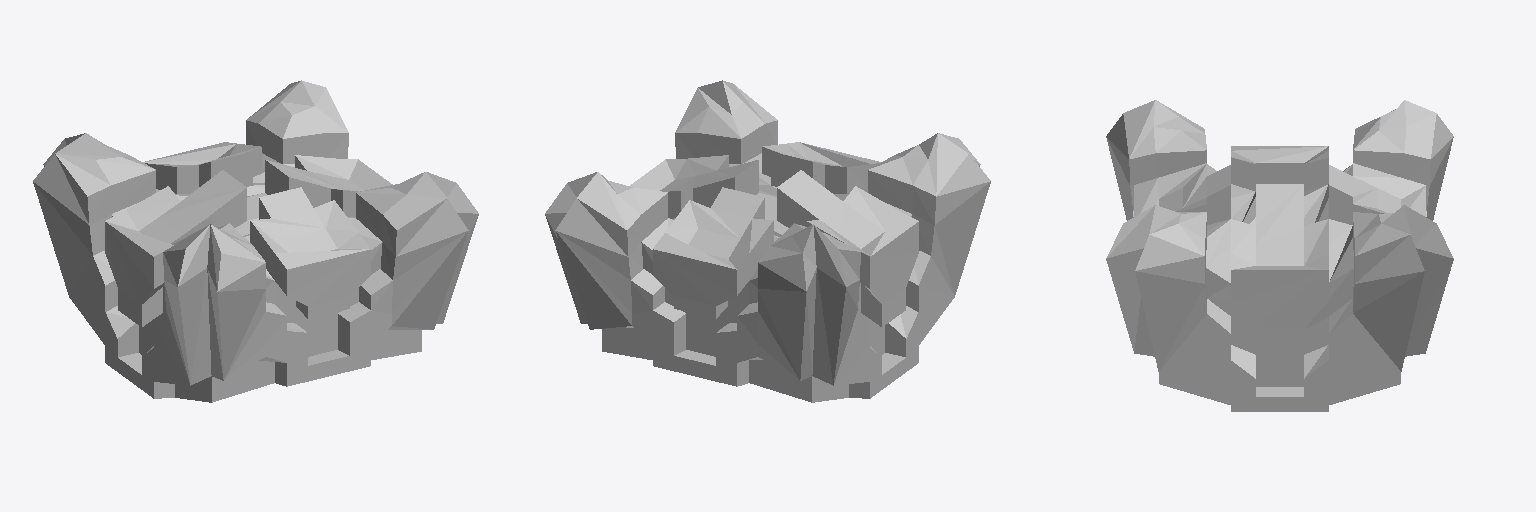
Rendered from Bot_ParentElement_LOD0-0.obj.
The picture shows the model from 3 angles: view 1: azimuth 30°, elevation 25°; view 2: azimuth 150°, elevation 25°; view 3: azimuth 270°, elevation 25°; orthographic projection.
Visible parts, largest first — view 1: Bot_ParentElement_LOD0-0; view 2: Bot_ParentElement_LOD0-0; view 3: Bot_ParentElement_LOD0-0.
Part boxes in pixels (bbox=[...]): Bot_ParentElement_LOD0-0: bbox=[33, 80, 478, 402]; Bot_ParentElement_LOD0-0: bbox=[545, 80, 990, 402]; Bot_ParentElement_LOD0-0: bbox=[1106, 100, 1453, 411].
Bounding box in the file's own units: 1.43 × 0.9423 × 1.43.